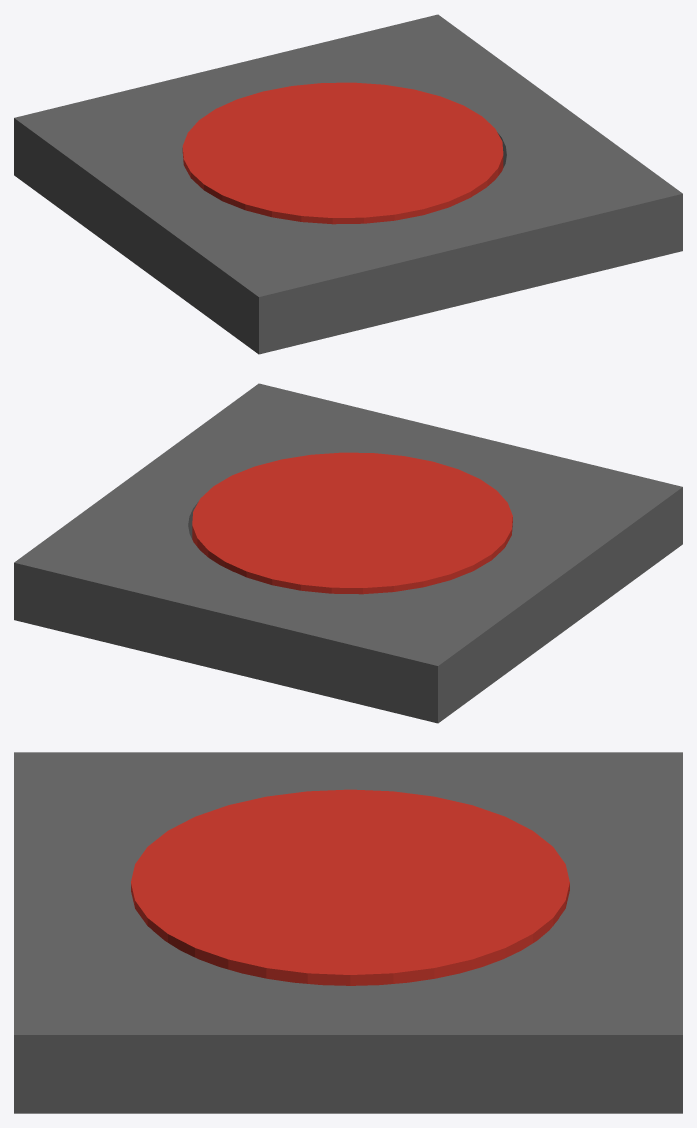
Rendered from WeightSwitch.fbx.
The picture shows the model from 3 angles, top to bottom: view 1: azimuth 30°, elevation 25°; view 2: azimuth 150°, elevation 25°; view 3: azimuth 270°, elevation 25°; orthographic projection. The views are drawn at different scales.
Visible parts, largest first — view 1: Cube, Cylinder; view 2: Cube, Cylinder; view 3: Cube, Cylinder.
Boxes of the visible parts, bbox=[...] form: Cube: bbox=[14, 14, 682, 354]; Cylinder: bbox=[182, 82, 503, 224]; Cube: bbox=[14, 383, 682, 723]; Cylinder: bbox=[192, 452, 512, 594]; Cube: bbox=[14, 752, 682, 1113]; Cylinder: bbox=[131, 789, 569, 985].
Size of the model in its own units: 200 by 28.61 by 200.
